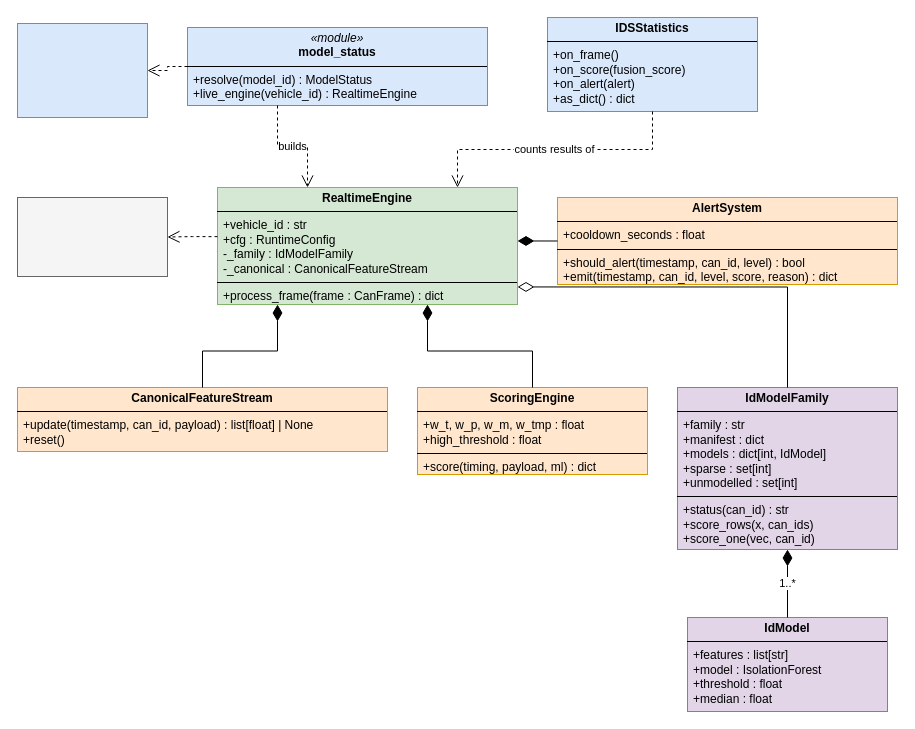
Some shapes in this 915 by 729 pixel diagram are drawn without their labels. The shapes that lost their labels are listed below. From the top down, each one's centre as x and y in pixels, then its label:
the point at 82,70: ModelStatus +id : str +status : str +offline : str +live : str
the point at 92,236: CanFrame +timestamp : float +can_id : int +payload : tuple[int]
